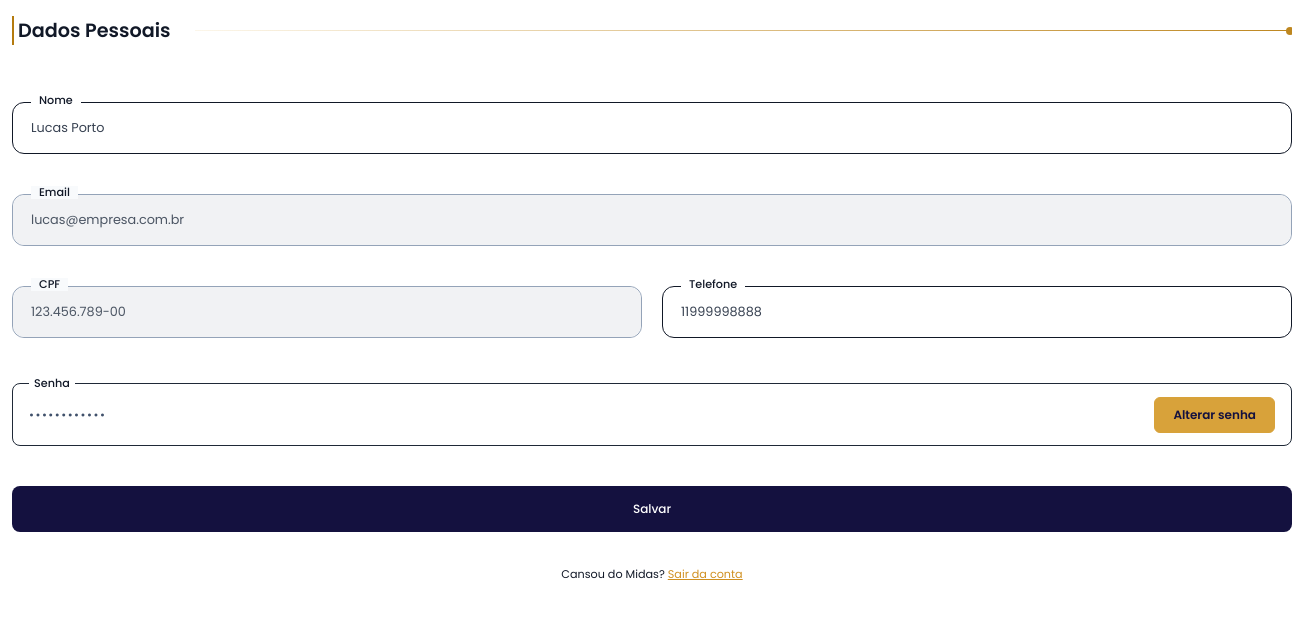
Perfil - Fluxo de Senha e Cloudinary › salva alterações de dados pessoais no PerfilForm
Replace the text in the field labelled "Nome" with "Lucas Porto Modificado": coordinates (652, 128) [13, 103, 1291, 153]
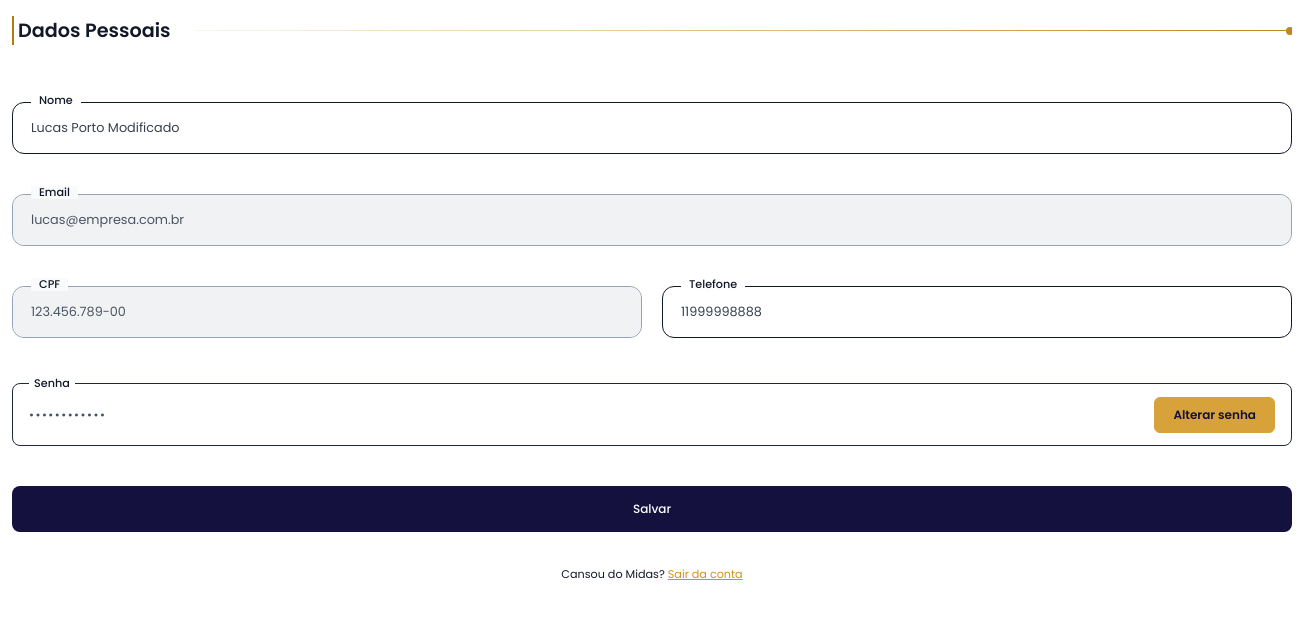
Click the button "Salvar": coordinates (652, 509) [12, 486, 1292, 532]
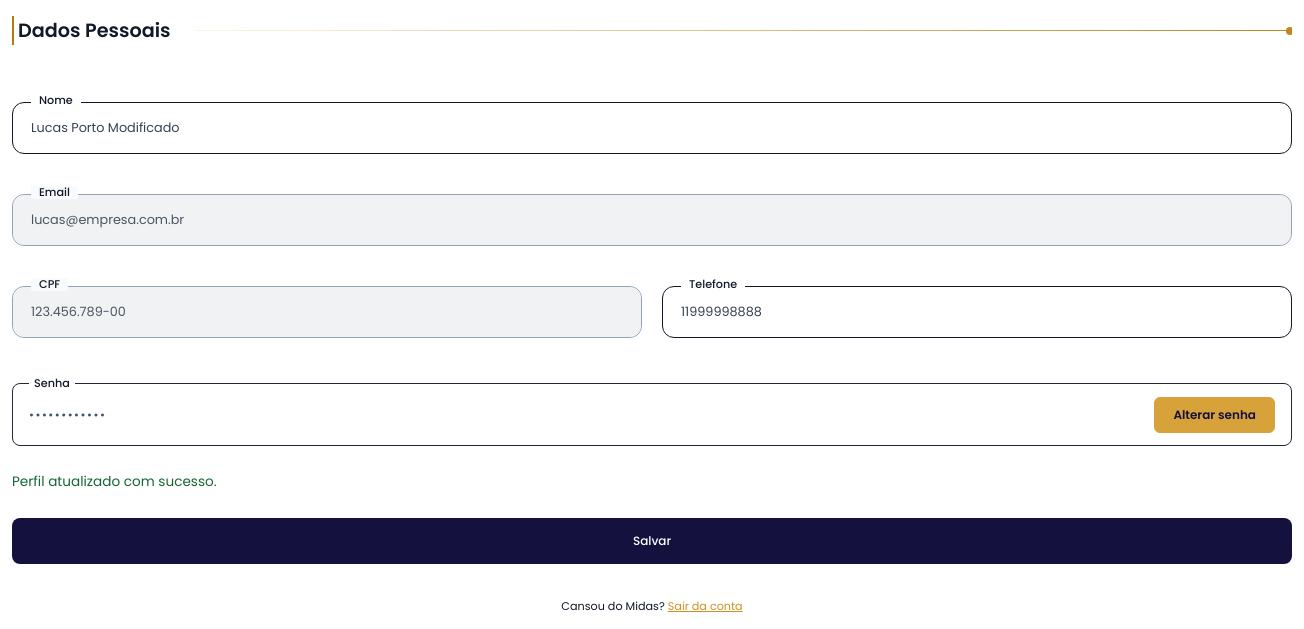
Expected: the text "Perfil atualizado com sucesso." is shown, [12, 472, 217, 491]
